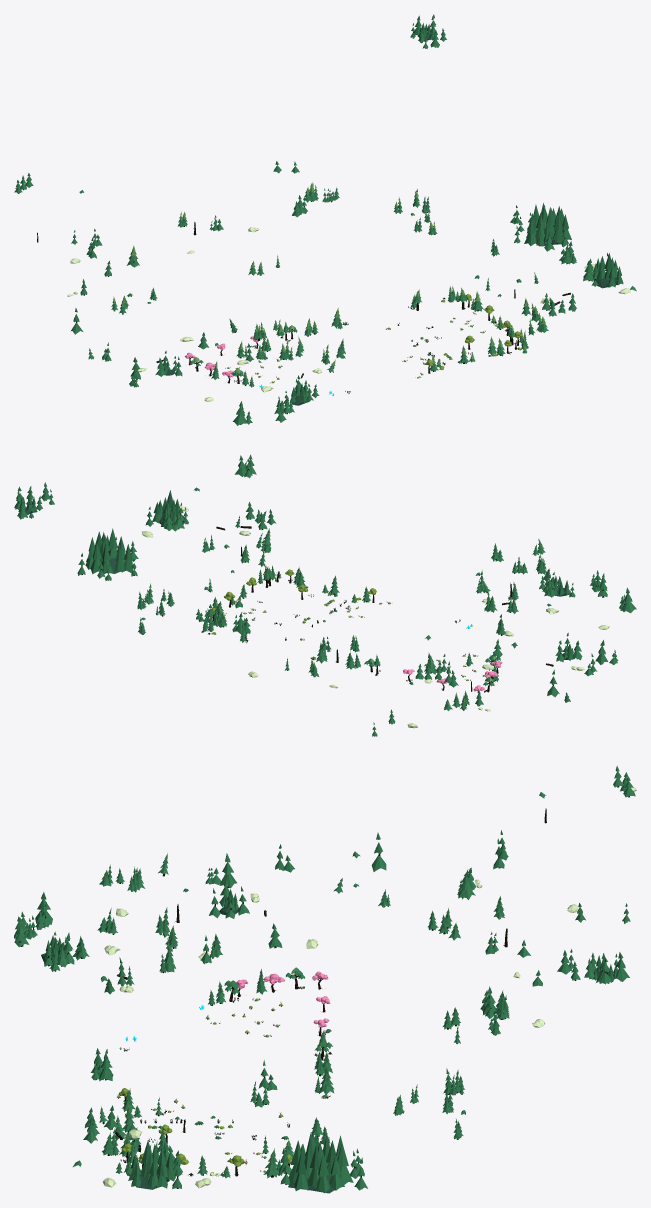
Rendered from LOBBY_09_VEGETATION_9df2fe.fbx.
3 renders of one model, top to bottom at view 1: azimuth 30°, elevation 25°; view 2: azimuth 150°, elevation 25°; view 3: azimuth 270°, elevation 25°, orthographic. The views are drawn at different scales.
Parts seen in each view (by area): view 1: VEG_Leste_Norte__Leaf_Pine, VEG_Leste_Sul__Leaf_Pine, VEG_Vale_Oeste__Leaf_Pine, VEG_Vale_Leste__Leaf_Pine, VEG_Norte_Leste__Leaf_Pine, VEG_Oeste_Norte__Leaf_Pine, VEG_Nordeste__Leaf_Pine, VEG_Noroeste__Leaf_Pine, VEG_Queda_Sul_Oeste__Leaf_Pine; view 2: VEG_Leste_Norte__Leaf_Pine, VEG_Leste_Sul__Leaf_Pine, VEG_Vale_Oeste__Leaf_Pine, VEG_Vale_Leste__Leaf_Pine, VEG_Norte_Leste__Leaf_Pine, VEG_Oeste_Norte__Leaf_Pine, VEG_Noroeste__Leaf_Pine, VEG_Nordeste__Leaf_Pine, VEG_Queda_Sul_Oeste__Leaf_Pine, VEG_Oeste_Sul__Leaf_Pine, VEG_Vale_Leste__Leaf_Broad, VEG_Norte_Oeste__Leaf_Pine; view 3: VEG_Leste_Norte__Leaf_Pine, VEG_Leste_Sul__Leaf_Pine, VEG_Vale_Oeste__Leaf_Pine, VEG_Vale_Leste__Leaf_Pine, VEG_Oeste_Norte__Leaf_Pine, VEG_Nordeste__Leaf_Pine, VEG_Norte_Leste__Leaf_Pine, VEG_Noroeste__Leaf_Pine, VEG_Queda_Sul_Oeste__Leaf_Pine, VEG_Oeste_Sul__Leaf_Pine, VEG_Norte_Oeste__Leaf_Pine, VEG_Vale_Leste__Leaf_Broad.
Boxes of the visible parts, bbox=[...] form: VEG_Leste_Norte__Leaf_Pine: bbox=[474, 203, 571, 290]; VEG_Leste_Sul__Leaf_Pine: bbox=[521, 241, 636, 335]; VEG_Vale_Oeste__Leaf_Pine: bbox=[189, 323, 334, 386]; VEG_Vale_Leste__Leaf_Pine: bbox=[331, 289, 528, 374]; VEG_Norte_Leste__Leaf_Pine: bbox=[273, 161, 437, 267]; VEG_Oeste_Norte__Leaf_Pine: bbox=[71, 287, 182, 387]; VEG_Nordeste__Leaf_Pine: bbox=[410, 14, 446, 232]; VEG_Noroeste__Leaf_Pine: bbox=[14, 173, 136, 314]; VEG_Queda_Sul_Oeste__Leaf_Pine: bbox=[283, 339, 345, 413]; VEG_Leste_Norte__Leaf_Pine: bbox=[77, 502, 229, 591]; VEG_Leste_Sul__Leaf_Pine: bbox=[145, 454, 276, 566]; VEG_Vale_Oeste__Leaf_Pine: bbox=[345, 539, 546, 686]; VEG_Vale_Leste__Leaf_Pine: bbox=[202, 566, 389, 663]; VEG_Norte_Leste__Leaf_Pine: bbox=[141, 585, 289, 670]; VEG_Oeste_Norte__Leaf_Pine: bbox=[465, 632, 618, 702]; VEG_Noroeste__Leaf_Pine: bbox=[372, 635, 483, 736]; VEG_Nordeste__Leaf_Pine: bbox=[14, 482, 146, 634]; VEG_Queda_Sul_Oeste__Leaf_Pine: bbox=[475, 543, 594, 597]; VEG_Oeste_Sul__Leaf_Pine: bbox=[543, 568, 636, 613]; VEG_Vale_Leste__Leaf_Broad: bbox=[202, 569, 390, 659]; VEG_Norte_Oeste__Leaf_Pine: bbox=[308, 635, 436, 676]; VEG_Leste_Norte__Leaf_Pine: bbox=[194, 1060, 367, 1193]; VEG_Leste_Sul__Leaf_Pine: bbox=[73, 1048, 182, 1188]; VEG_Vale_Oeste__Leaf_Pine: bbox=[99, 865, 332, 1075]; VEG_Vale_Leste__Leaf_Pine: bbox=[116, 1068, 334, 1178]; VEG_Oeste_Norte__Leaf_Pine: bbox=[205, 832, 390, 918]; VEG_Nordeste__Leaf_Pine: bbox=[442, 949, 629, 1139]; VEG_Norte_Leste__Leaf_Pine: bbox=[393, 940, 542, 1115]; VEG_Noroeste__Leaf_Pine: bbox=[428, 765, 635, 940]; VEG_Queda_Sul_Oeste__Leaf_Pine: bbox=[15, 917, 107, 981]; VEG_Oeste_Sul__Leaf_Pine: bbox=[14, 853, 188, 947]; VEG_Norte_Oeste__Leaf_Pine: bbox=[443, 870, 504, 1029]; VEG_Vale_Leste__Leaf_Broad: bbox=[116, 1088, 325, 1176].
Bounding box in the file's own units: 454 × 177 × 362.
10 materials, 3 textured.
